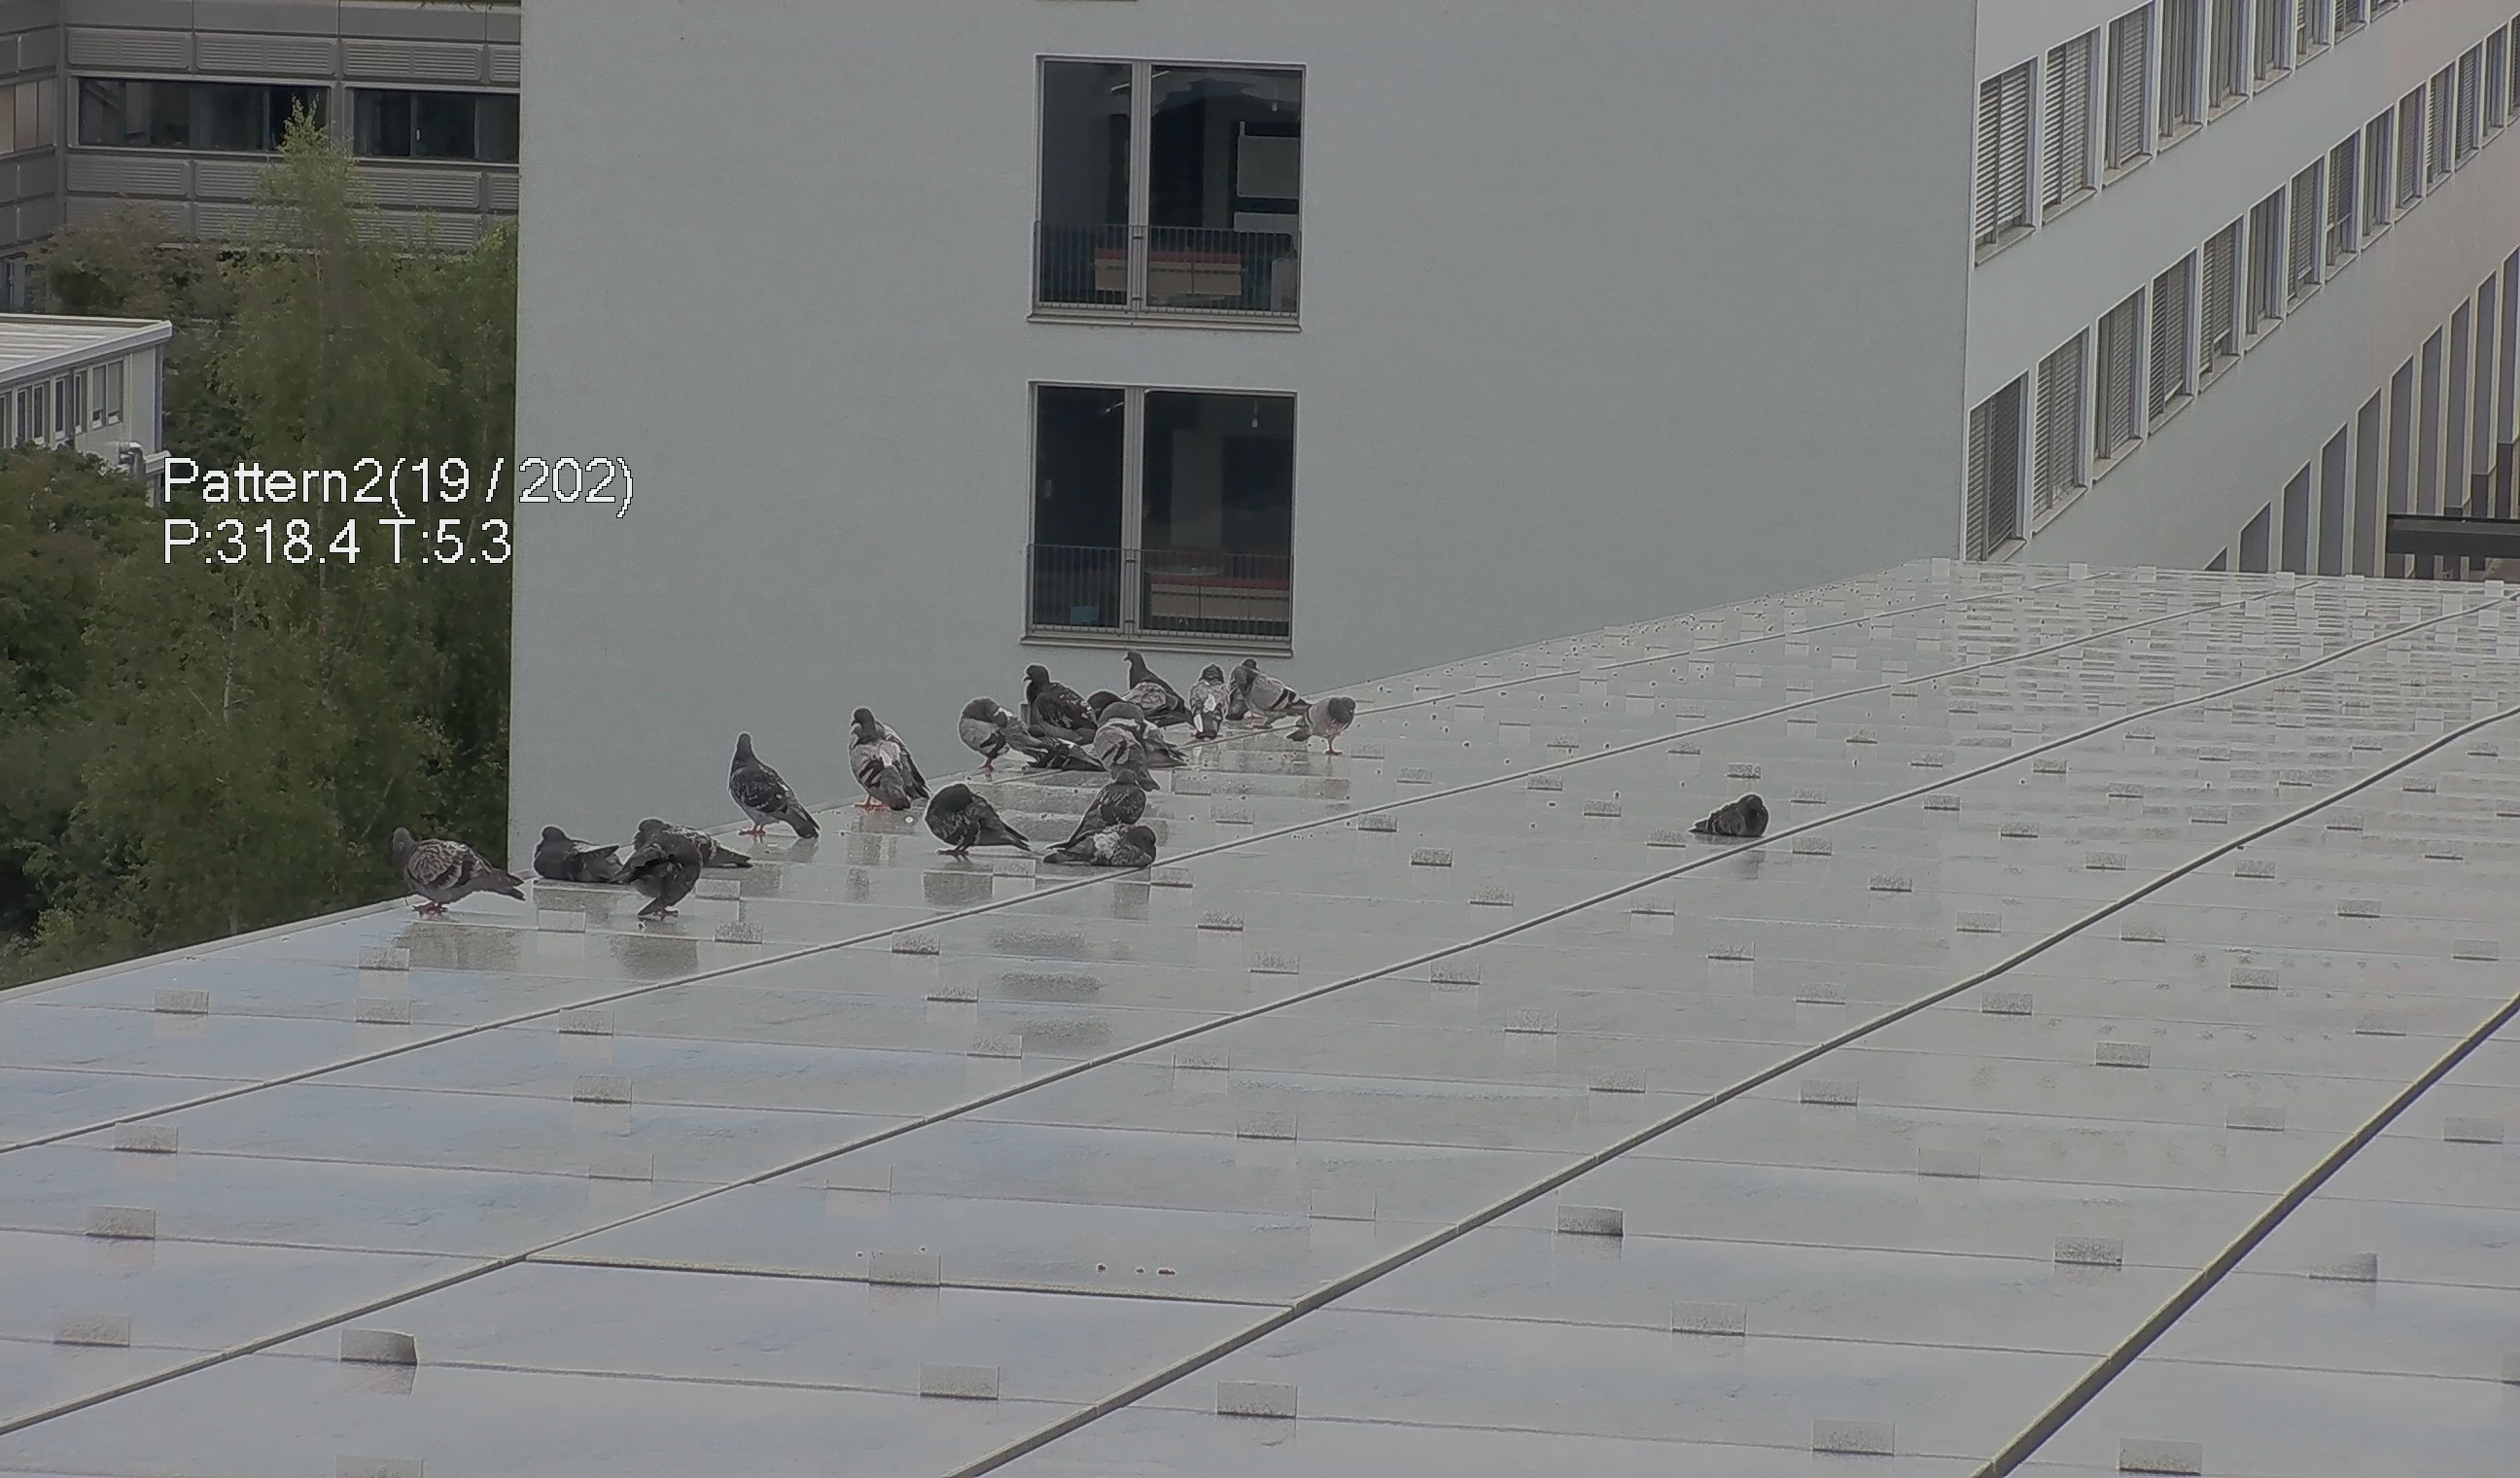Pigeon: (707, 713, 819, 855), (366, 822, 512, 926), (608, 822, 742, 922), (828, 702, 925, 820), (1082, 702, 1198, 790), (531, 820, 647, 892), (925, 774, 1023, 857), (944, 690, 1034, 778), (1050, 816, 1166, 880), (1278, 690, 1368, 758), (1681, 788, 1773, 852), (1073, 771, 1155, 839), (1184, 658, 1235, 757), (1235, 665, 1312, 720), (1104, 640, 1173, 697), (1022, 663, 1087, 713)
